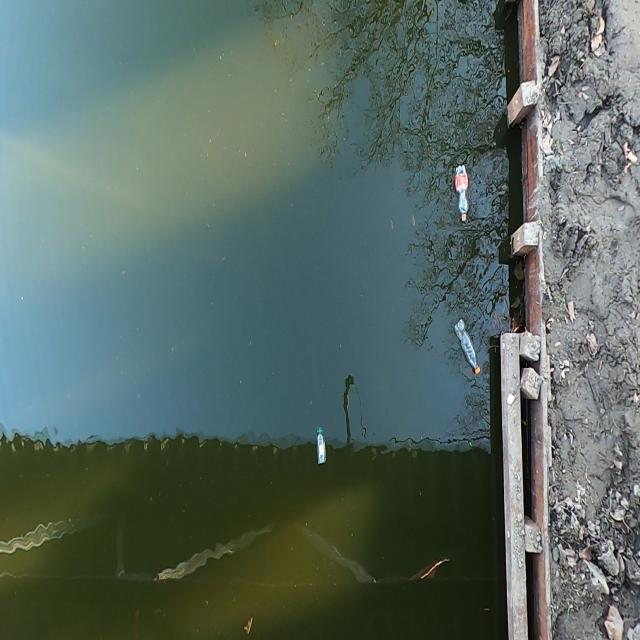Bouteille plastique: (453, 314, 485, 383), (453, 158, 472, 227), (310, 426, 328, 471)
